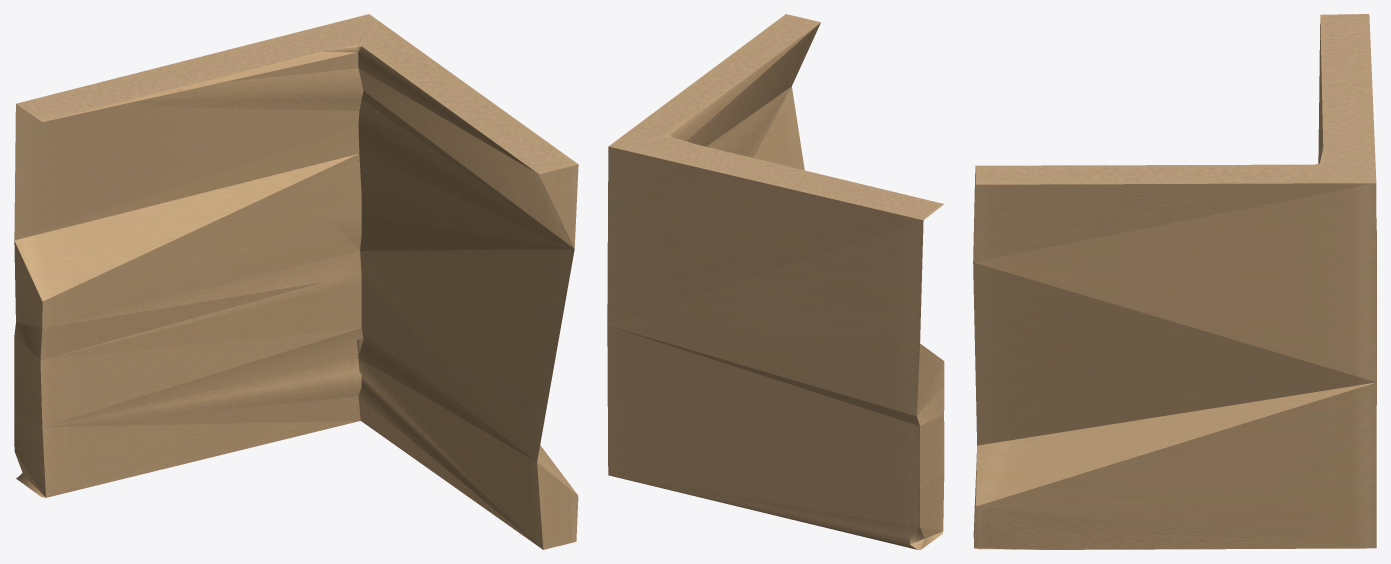
3 views of the same model, side by side, from view 1: azimuth 30°, elevation 25°; view 2: azimuth 150°, elevation 25°; view 3: azimuth 270°, elevation 25° (orthographic). The views are drawn at different scales.
Visible parts, largest first — view 1: corner-guard; view 2: corner-guard; view 3: corner-guard.
Boxes of the visible parts, <box> form: corner-guard: <box>14,14,578,549</box>; corner-guard: <box>607,14,944,549</box>; corner-guard: <box>973,14,1376,549</box>.
Bounding box in the file's own units: 1 × 1 × 1.
1 material, 1 textured.
